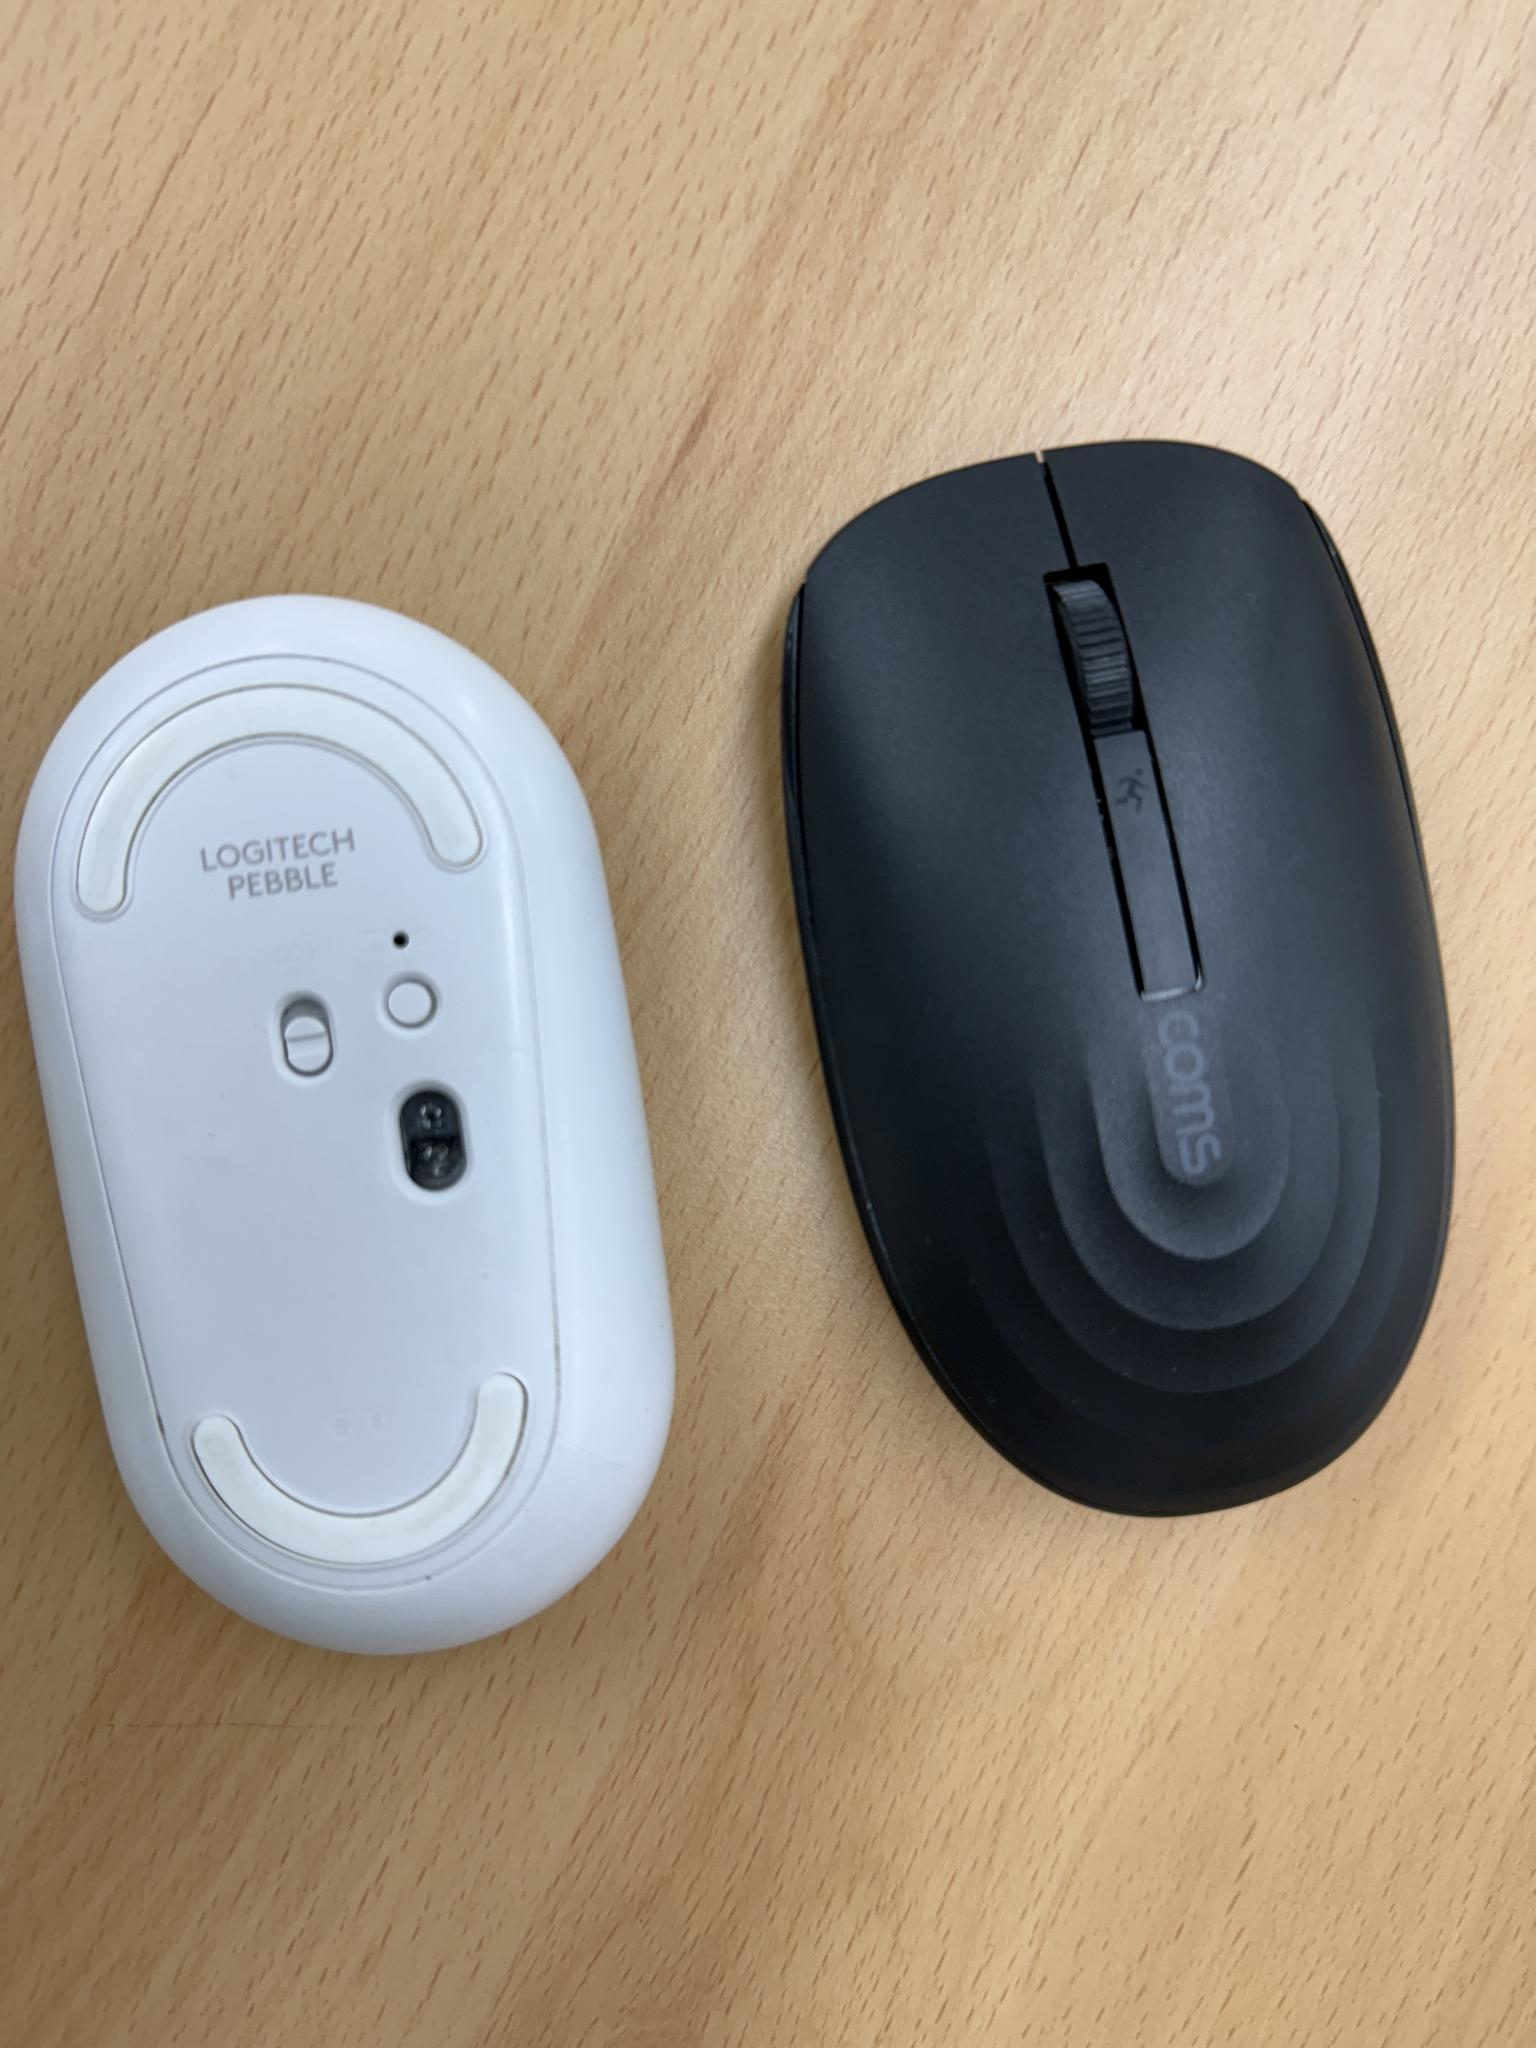back: (5, 582, 699, 1666)
front: (765, 432, 1483, 1516)
